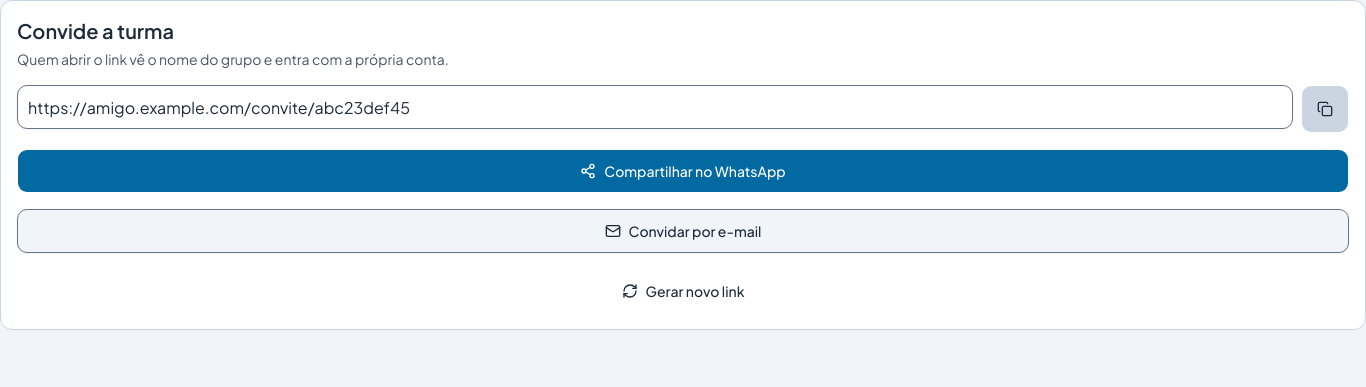
Test: InviteBlock › Convidar por e-mail mostra e esconde o formulário
expect the text "Formulário de e-mails" is not shown: met
Click the button "Convidar por e-mail": x=683, y=231 [17,209,1349,253]
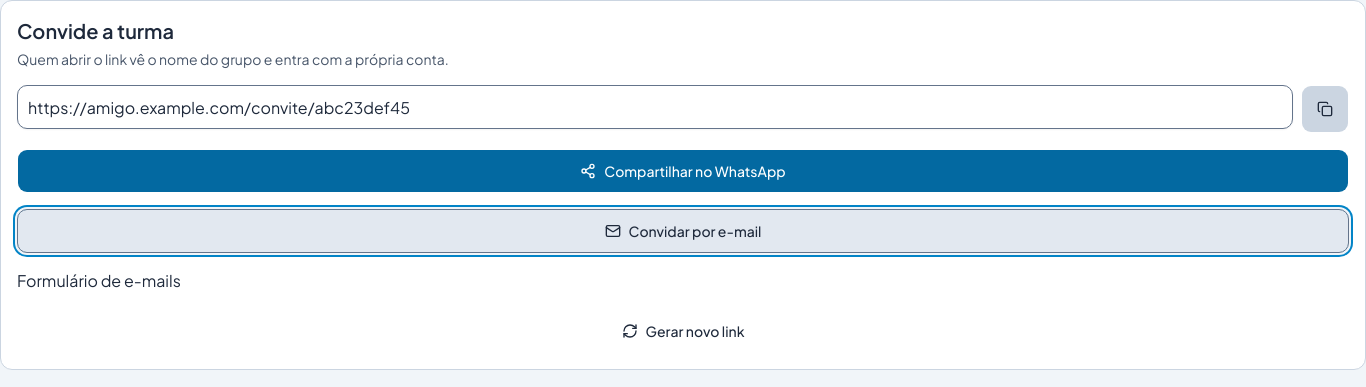
expect the text "Formulário de e-mails" is shown: met, box [17,270,181,291]
Click the button "Convidar por e-mail": x=683, y=231 [17,209,1349,253]
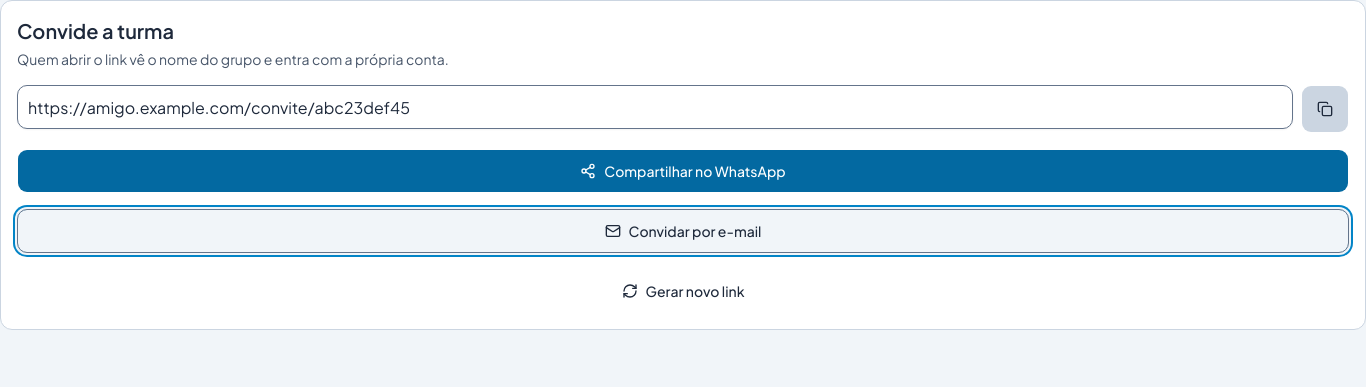
expect the text "Formulário de e-mails" is gone: met
